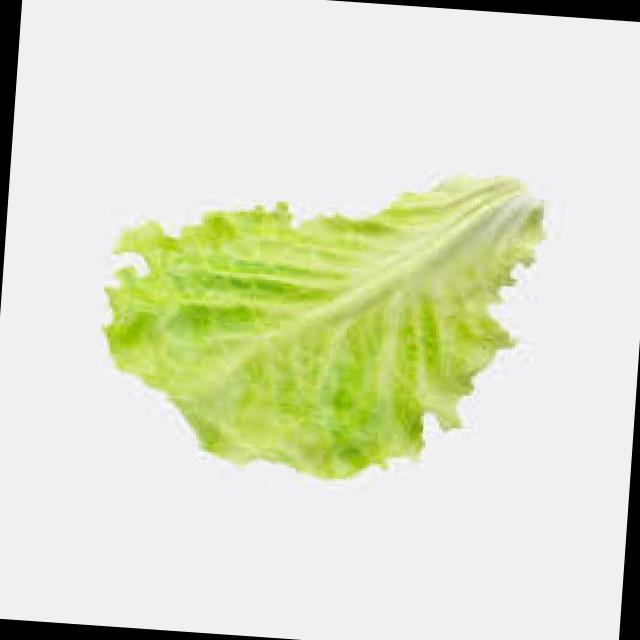Lettuce-Ready-to-Harvest: (106, 176, 542, 477)
